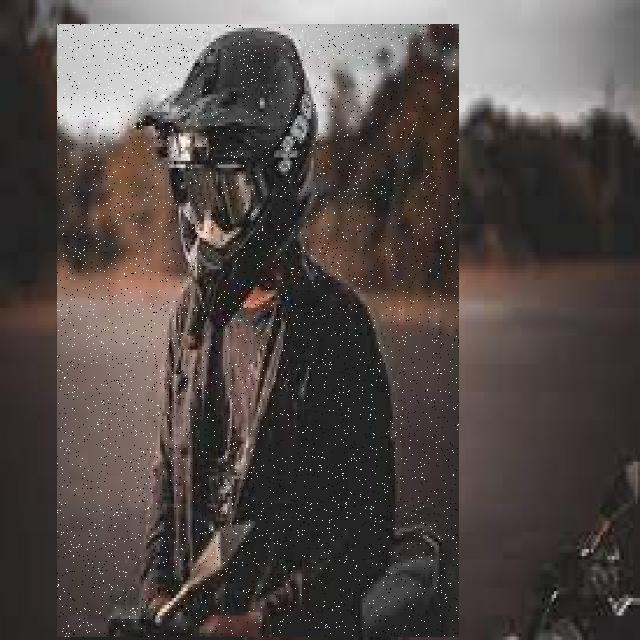With Helmet: (57, 24, 459, 637)
